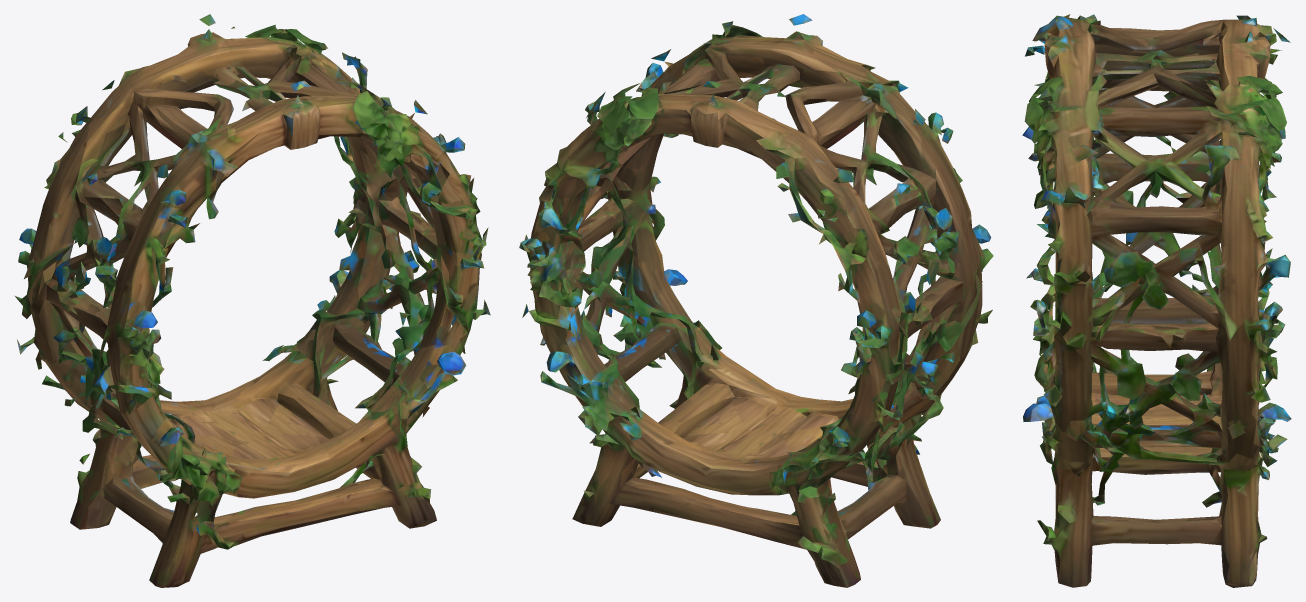
Rendered from gen-m4-garden-bed.glb.
The picture shows the model from 3 angles, left to right: view 1: azimuth 30°, elevation 25°; view 2: azimuth 150°, elevation 25°; view 3: azimuth 270°, elevation 25°; orthographic projection. The views are drawn at different scales.
Visible parts, largest first — view 1: geometry_0; view 2: geometry_0; view 3: geometry_0.
Boxes of the visible parts, x1,y1,x2,y2 form: geometry_0: (14, 14, 490, 587); geometry_0: (519, 14, 993, 587); geometry_0: (1022, 14, 1291, 587).
Bounding box in the file's own units: 1.26 × 1.5 × 0.7306.
Materials: 1 (1 with a texture image).
